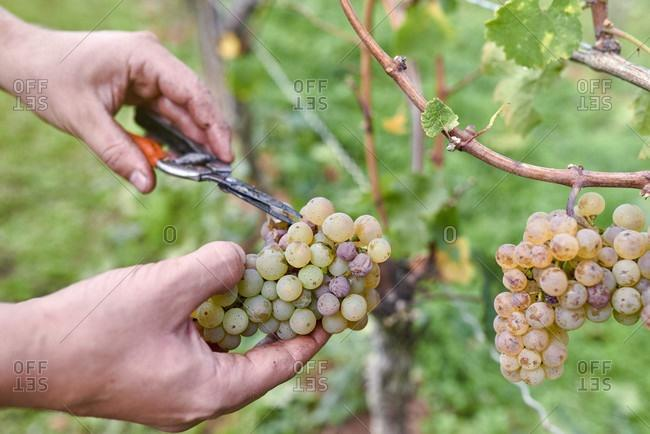Grape Rotten: (191, 195, 392, 352), (492, 191, 649, 386)
